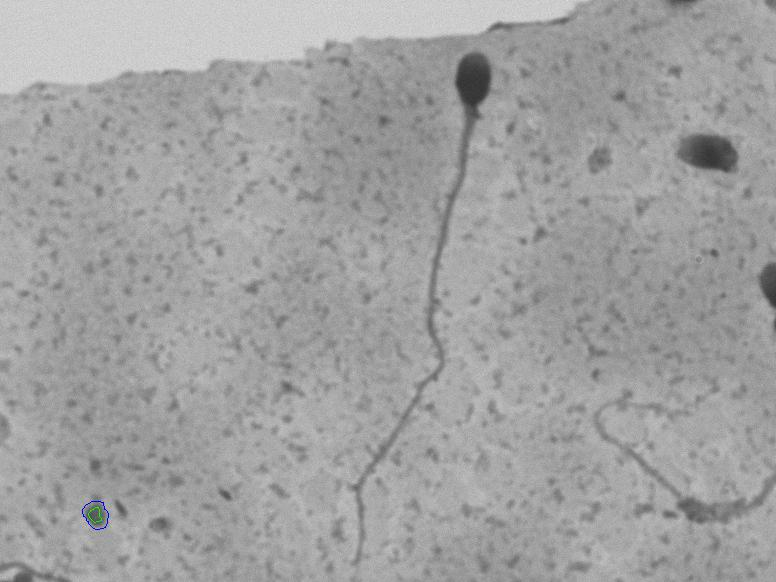Normal: (329, 40, 546, 574)
